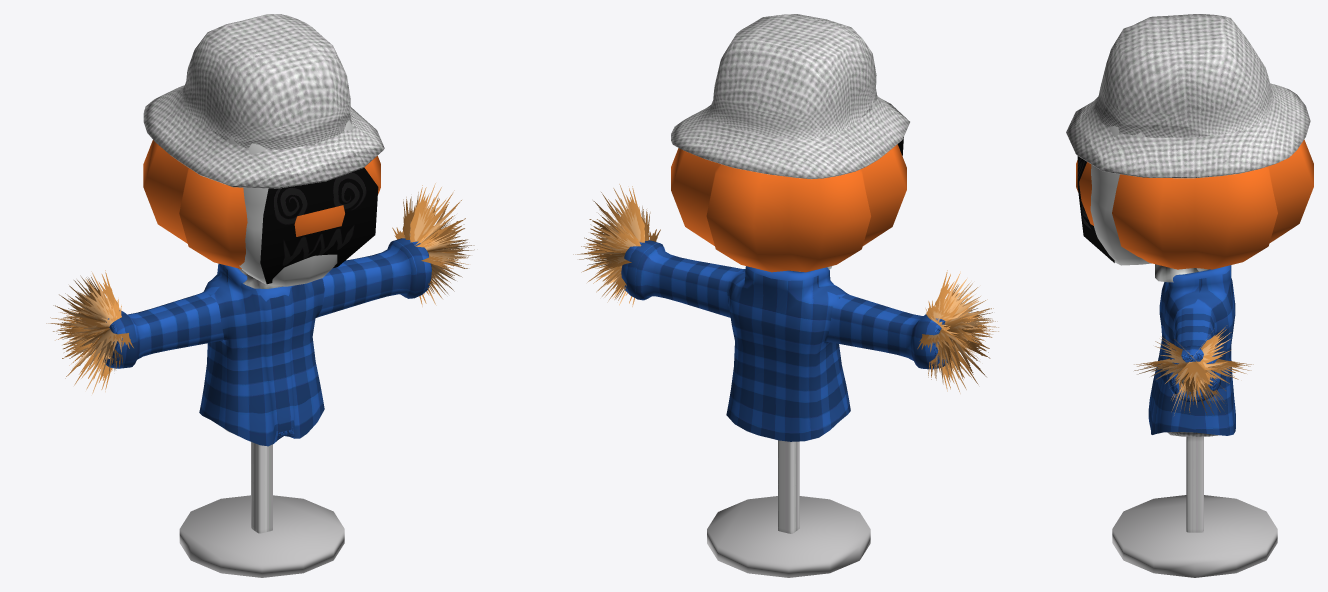
File: Scarecrow_Hand.fbx
3 views of the same model, side by side, from view 1: azimuth 30°, elevation 25°; view 2: azimuth 150°, elevation 25°; view 3: azimuth 270°, elevation 25° (orthographic).
Parts seen in each view (by area): view 1: Akubra, Shirt, Scarecrow (1), Pumpkin, Grass (×2), Face, CharHeadManaquin (1); view 2: Shirt, Akubra, Pumpkin, Scarecrow (1), Grass (×2); view 3: Akubra, Pumpkin, Scarecrow (1), Shirt, Grass, CharHeadManaquin (1), Face.
Boxes of the visible parts, x1,y1,x2,y2 form: Akubra: [143, 14, 384, 188]; Shirt: [104, 238, 431, 446]; Scarecrow (1): [109, 354, 344, 577]; Pumpkin: [143, 140, 380, 268]; Grass (×2): [46, 183, 474, 393]; Face: [260, 167, 378, 284]; CharHeadManaquin (1): [228, 120, 353, 288]; Shirt: [621, 240, 947, 441]; Akubra: [671, 14, 909, 179]; Pumpkin: [671, 144, 906, 272]; Scarecrow (1): [707, 270, 870, 577]; Grass (×2): [573, 184, 998, 393]; Akubra: [1066, 14, 1310, 178]; Pumpkin: [1076, 139, 1313, 269]; Scarecrow (1): [1112, 268, 1277, 577]; Shirt: [1148, 265, 1235, 435]; Grass: [1134, 327, 1253, 415]; CharHeadManaquin (1): [1090, 126, 1198, 282]; Face: [1077, 156, 1114, 262].
Bounding box in the file's own units: 1.04 × 1.18 × 0.5158.
7 materials, 5 textured.
